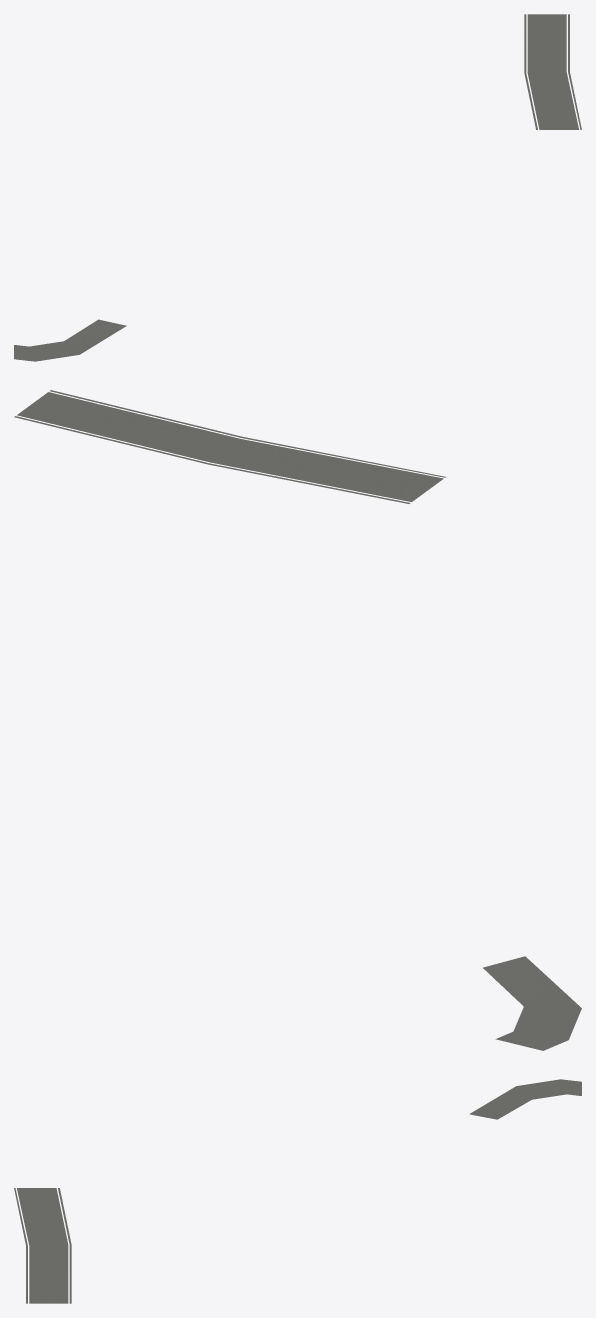
Rendered from kd_connection_town-ground_surface_2_24.glb.
3 renders of one model, top to bottom at view 1: azimuth 90°, elevation 25°; view 2: azimuth 150°, elevation 25°; view 3: azimuth 270°, elevation 25°, orthographic. The views are drawn at different scales.
Parts seen in each view (by area): view 1: kd_connection_town-ground_surface_2_24; view 2: kd_connection_town-ground_surface_2_24; view 3: kd_connection_town-ground_surface_2_24.
Boxes of the visible parts, x1,y1,x2,y2 form: kd_connection_town-ground_surface_2_24: (14,14,581,361); kd_connection_town-ground_surface_2_24: (14,390,581,1050); kd_connection_town-ground_surface_2_24: (14,1079,581,1303).
Bounding box in the file's own units: 104 × 10.4 × 87.06.
Materials: 1 (1 with a texture image).
